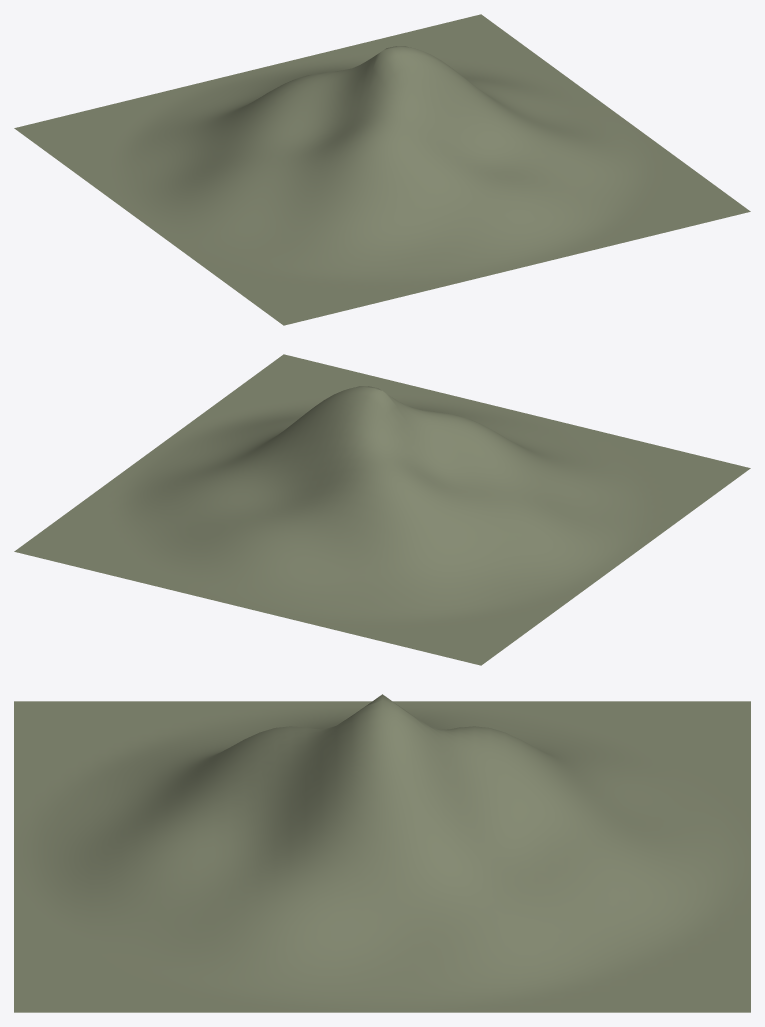
File: SM_Hill.fbx
3 renders of one model, top to bottom at view 1: azimuth 30°, elevation 25°; view 2: azimuth 150°, elevation 25°; view 3: azimuth 270°, elevation 25°, orthographic. The views are drawn at different scales.
Visible parts, largest first — view 1: SM_Hill; view 2: SM_Hill; view 3: SM_Hill.
Part boxes in pixels (<box>): SM_Hill: <box>14,14,750,325</box>; SM_Hill: <box>14,354,750,665</box>; SM_Hill: <box>14,694,750,1012</box>.
Size of the model in its own units: 24000 by 24000 by 5854.
